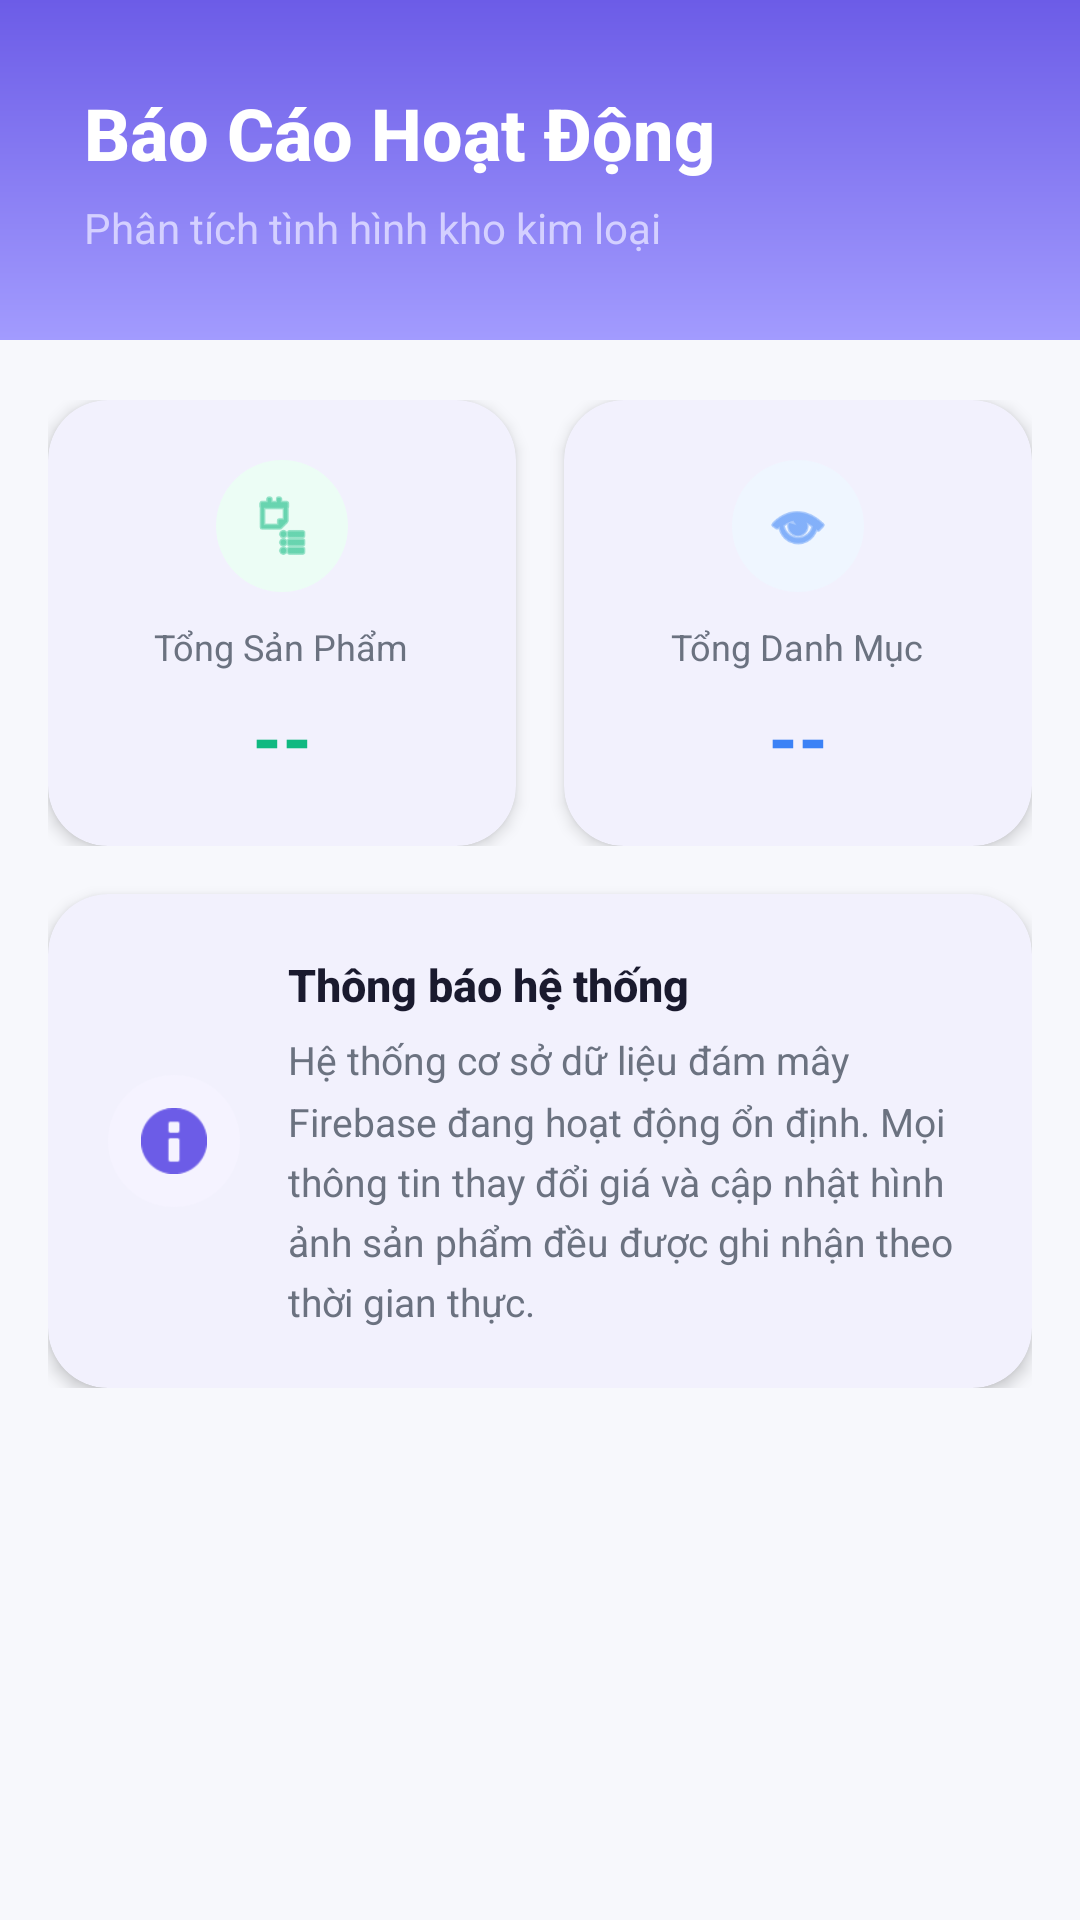

Screen size 1080 × 1920. Icon name, then its center in pixels as [x,y]:
agenda: [282,525]
info: [174,1141]
view: [798,528]
